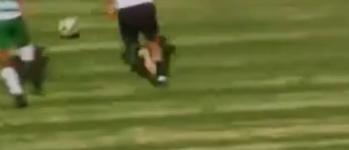ball: (55, 13, 82, 40)
